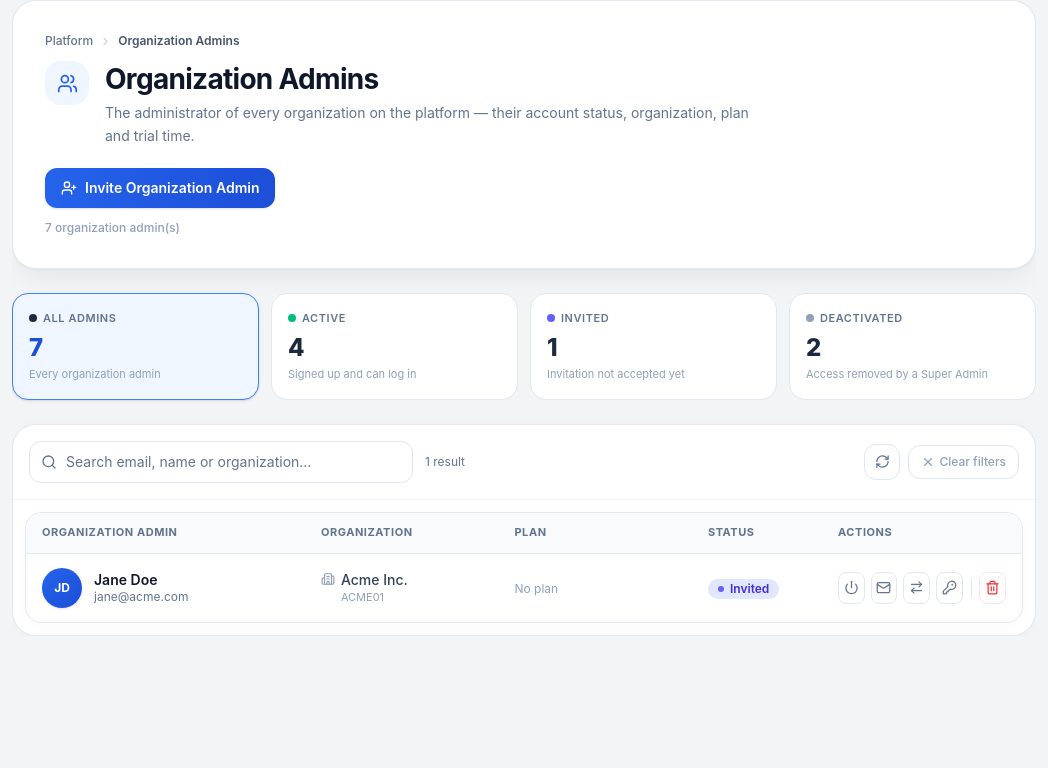
Test: UsersPage row actions › explains each icon in a tooltip on hover
The width and height of the screenshot is (1048, 768).
Hover over the button named "send password reset link" at {"x": 949, "y": 588}, box 936,572 -> 962,604
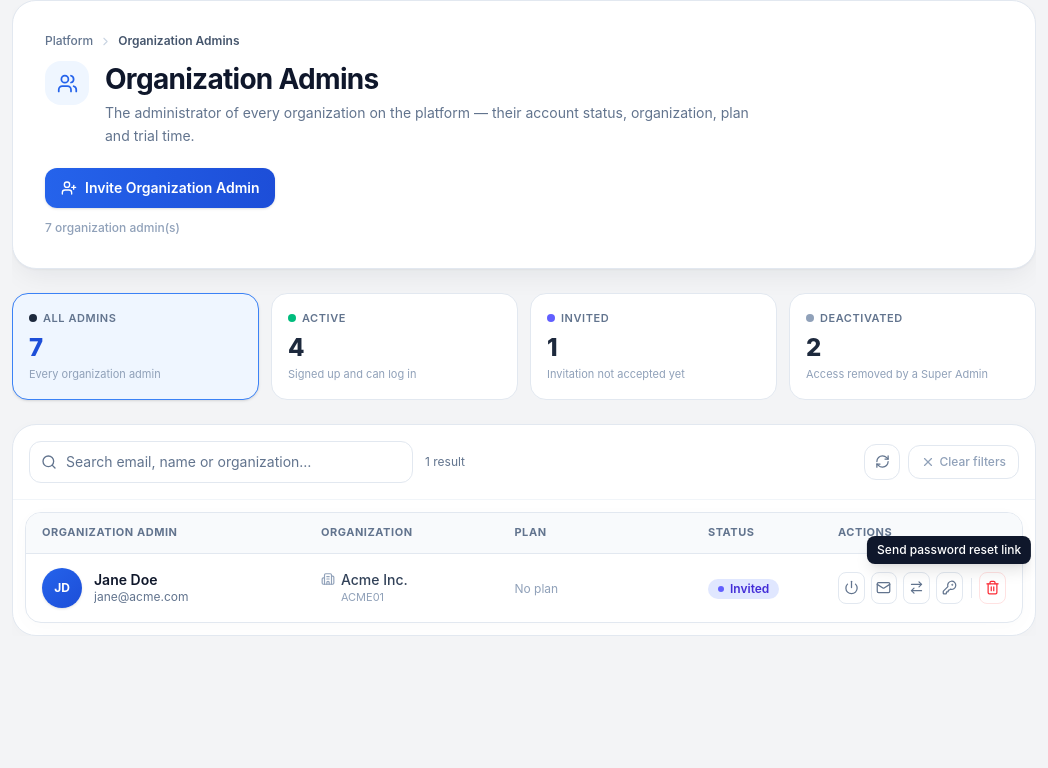
Now the tooltip reads "Send password reset link", box 877,542 -> 1021,556
